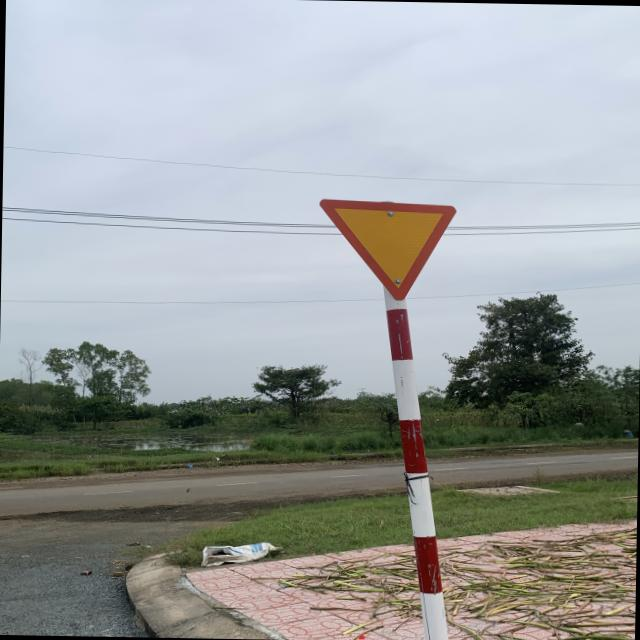Gioi_Han_Toc_Do_25: (318, 196, 458, 303)
